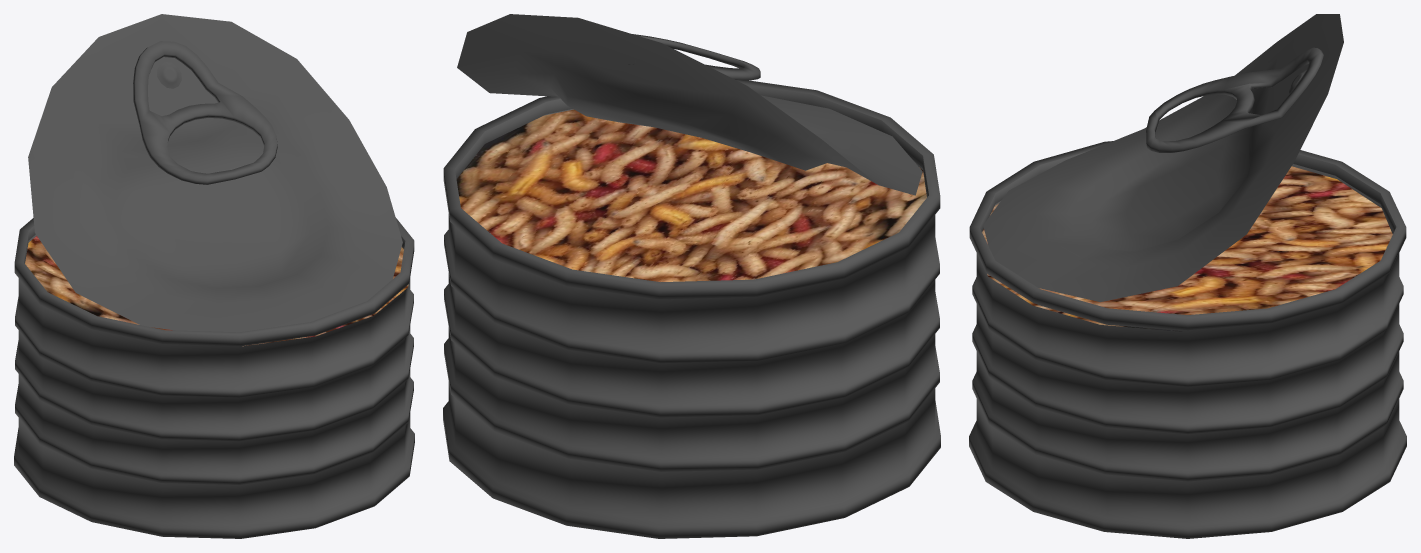
File: Boite d'appats.fbx
3 views of the same model, side by side, from view 1: azimuth 30°, elevation 25°; view 2: azimuth 150°, elevation 25°; view 3: azimuth 270°, elevation 25° (orthographic). The views are drawn at different scales.
Parts seen in each view (by area): view 1: Box.003, Circle.004; view 2: Box.003, Circle.004; view 3: Box.003, Circle.004.
Part boxes in pixels (box(x1,y1,x2,y2)): Box.003: box(14, 14, 414, 538); Circle.004: box(25, 236, 408, 346); Box.003: box(443, 14, 940, 538); Circle.004: box(456, 109, 926, 281); Box.003: box(969, 14, 1406, 538); Circle.004: box(982, 166, 1392, 331).
Size of the model in its own units: 200 by 214 by 200.
